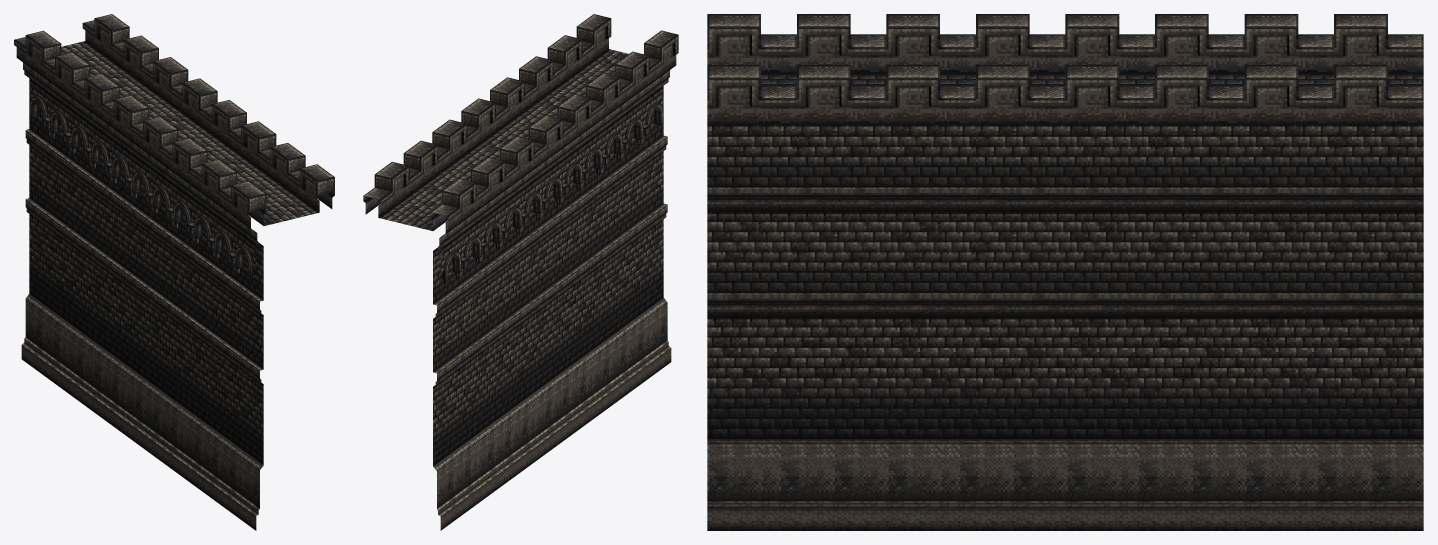
Rendered from EnvBdgMD_Castle_LostSeed_A_Wall_A.FBX.
The picture shows the model from 3 angles, left to right: view 1: azimuth 30°, elevation 25°; view 2: azimuth 150°, elevation 25°; view 3: azimuth 270°, elevation 25°; orthographic projection. The views are drawn at different scales.
Parts seen in each view (by area): view 1: EnvBdgMD_Castle_LostSeed_A_Wall_A; view 2: EnvBdgMD_Castle_LostSeed_A_Wall_A; view 3: EnvBdgMD_Castle_LostSeed_A_Wall_A.
Boxes of the visible parts, x1,y1,x2,y2 form: EnvBdgMD_Castle_LostSeed_A_Wall_A: [14, 14, 334, 530]; EnvBdgMD_Castle_LostSeed_A_Wall_A: [363, 14, 678, 530]; EnvBdgMD_Castle_LostSeed_A_Wall_A: [707, 14, 1423, 530].
Size of the model in its own units: 340 by 1260 by 1600.
